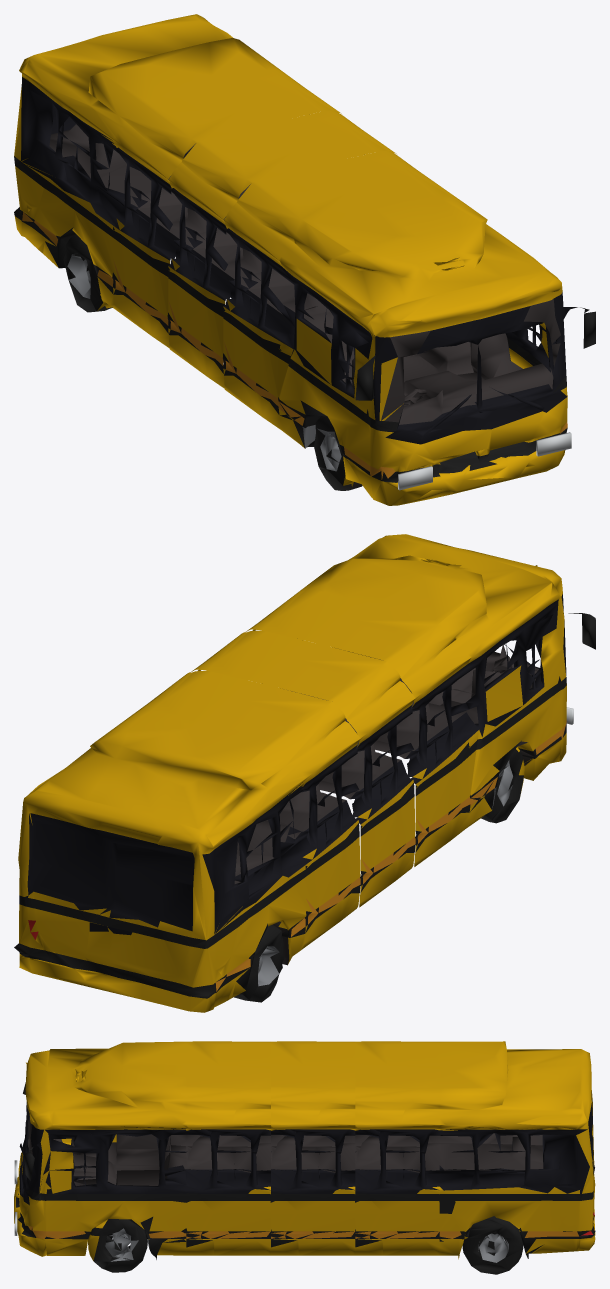
The model's file is college.glb.
3 renders of one model, top to bottom at view 1: azimuth 30°, elevation 25°; view 2: azimuth 150°, elevation 25°; view 3: azimuth 270°, elevation 25°, orthographic. The views are drawn at different scales.
Parts seen in each view (by area): view 1: geometry_0; view 2: geometry_0; view 3: geometry_0.
Boxes of the visible parts, x1,y1,x2,y2 form: geometry_0: (14, 14, 595, 505); geometry_0: (14, 534, 595, 1012); geometry_0: (14, 1041, 595, 1274).
Size of the model in its own units: 3.22 by 2.95 by 8.83.
